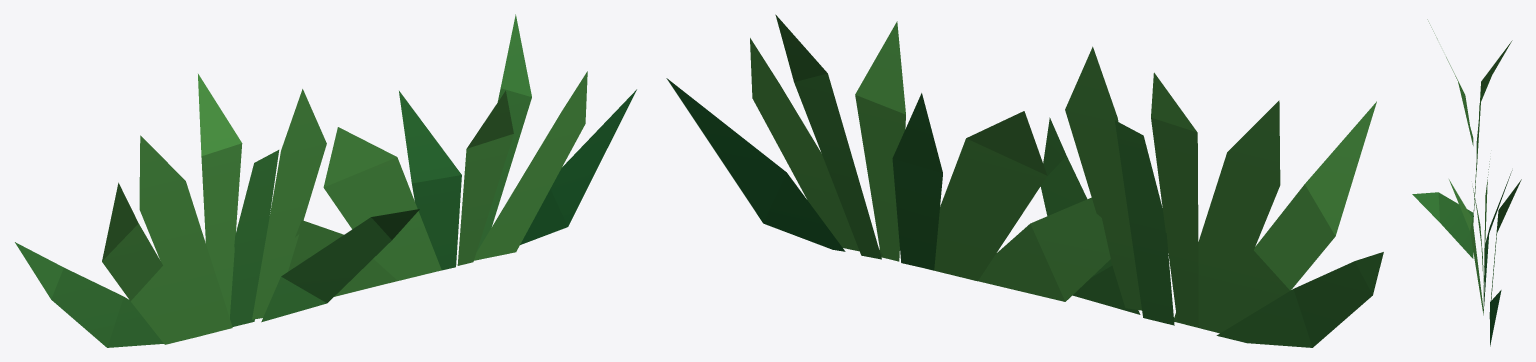
Rendered from Grass_Small_0_1.fbx.
The picture shows the model from 3 angles, left to right: view 1: azimuth 30°, elevation 25°; view 2: azimuth 150°, elevation 25°; view 3: azimuth 270°, elevation 25°; orthographic projection. The views are drawn at different scales.
Parts seen in each view (by area): view 1: grass-long.001; view 2: grass-long.001; view 3: grass-long.001.
Part boxes in pixels (x1=…): grass-long.001: x1=15, y1=14, x2=636, y2=347; grass-long.001: x1=666, y1=14, x2=1383, y2=347; grass-long.001: x1=1412, y1=19, x2=1521, y2=346.
Bounding box in the file's own units: 201 × 73.94 × 40.12.
